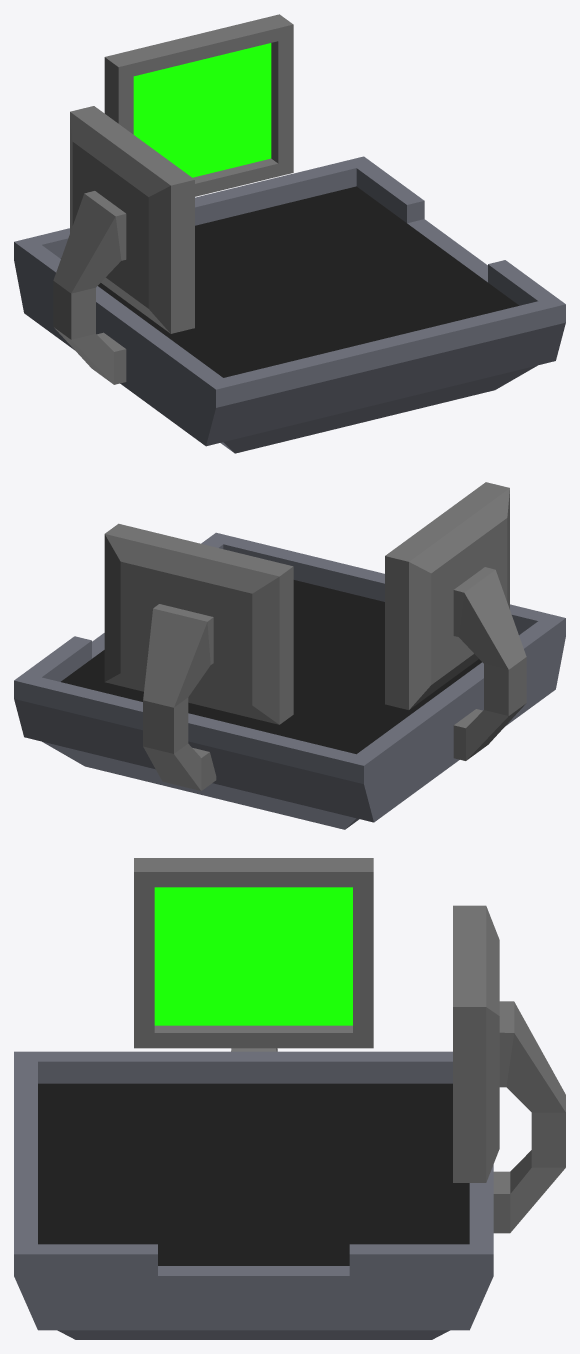
The model's file is tv_terrace.glb.
3 renders of one model, top to bottom at view 1: azimuth 30°, elevation 25°; view 2: azimuth 150°, elevation 25°; view 3: azimuth 270°, elevation 25°, orthographic. The views are drawn at different scales.
Visible parts, largest first — view 1: TVTerrace, TVMesh, TVMesh2; view 2: TVTerrace, TVMesh2, TVMesh; view 3: TVTerrace, TVMesh, TVMesh2.
Boxes of the visible parts, x1,y1,x2,y2 form: TVTerrace: [14, 156, 565, 453]; TVMesh: [53, 106, 194, 384]; TVMesh2: [104, 14, 293, 196]; TVTerrace: [14, 532, 565, 829]; TVMesh2: [104, 523, 293, 790]; TVMesh: [385, 482, 526, 760]; TVTerrace: [14, 1051, 493, 1339]; TVMesh: [134, 858, 373, 1051]; TVMesh2: [453, 905, 565, 1233].
Size of the model in its own units: 4.6 by 2.84 by 4.6.
